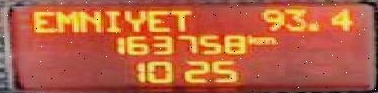-: (305, 21, 318, 32)
0: (145, 58, 169, 83)
1: (112, 34, 123, 57), (134, 59, 143, 83)
2: (182, 58, 207, 82)
3: (283, 5, 305, 30), (147, 33, 171, 53)
4: (327, 7, 356, 31)
5: (209, 58, 236, 83), (198, 33, 218, 53)
6: (125, 33, 145, 54)
7: (176, 33, 194, 53)
8: (223, 33, 243, 54)
9: (258, 5, 280, 30)
X: (29, 8, 54, 34), (167, 8, 194, 30), (121, 7, 143, 32), (145, 7, 167, 32), (101, 7, 121, 32), (76, 8, 98, 30), (56, 8, 76, 32), (256, 34, 276, 44), (247, 31, 256, 44)
